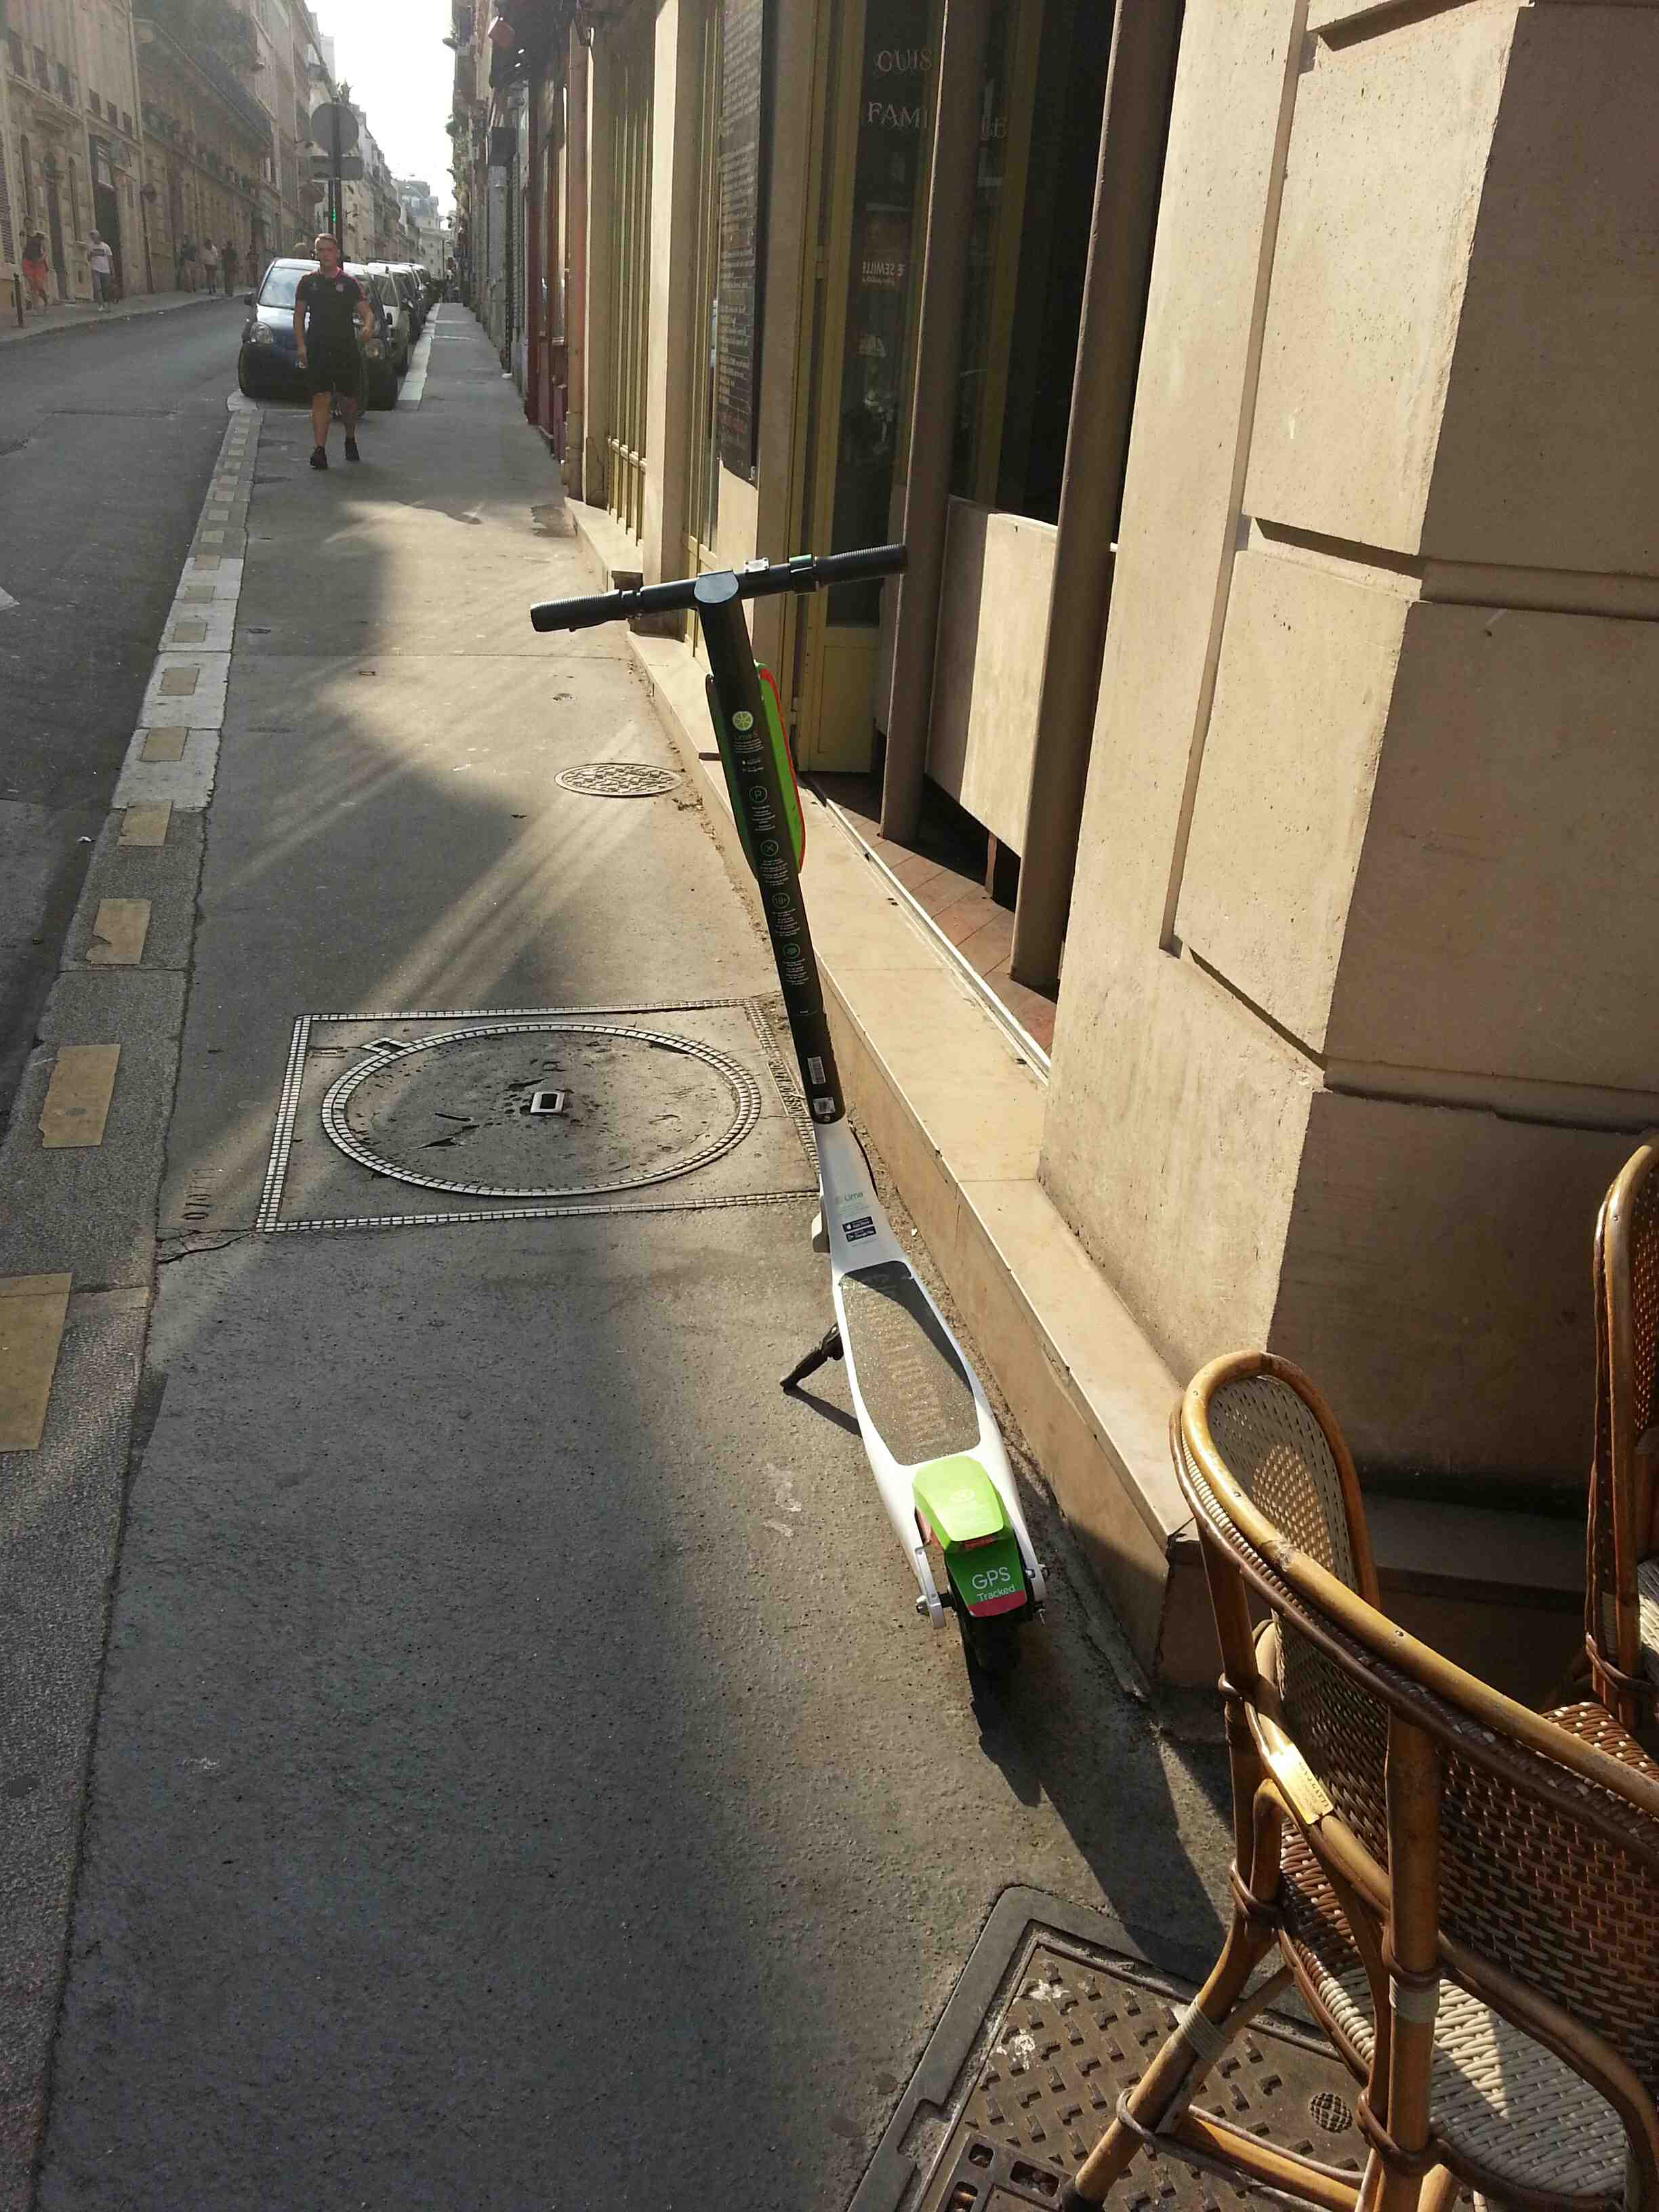scooter: (505, 493, 1107, 1749)
